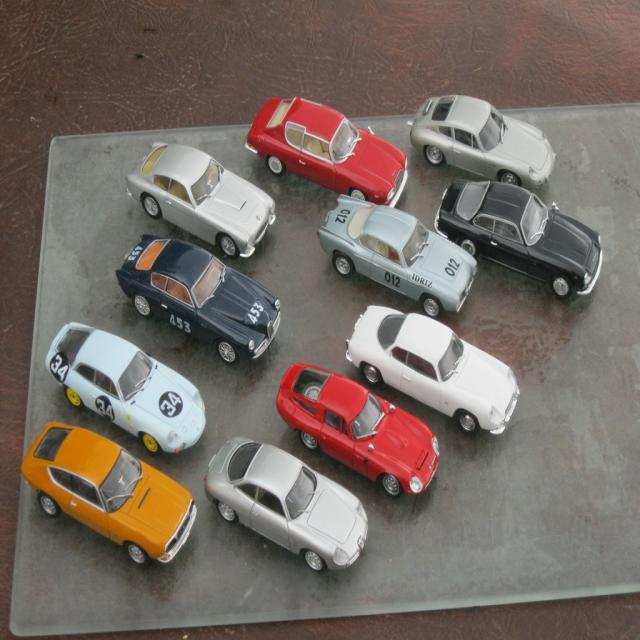car: (18, 418, 198, 572), (338, 296, 523, 436), (268, 353, 441, 502), (111, 229, 284, 369), (43, 314, 209, 455), (201, 429, 367, 570), (435, 174, 606, 303), (310, 184, 480, 312), (124, 140, 281, 259), (243, 93, 408, 204), (412, 91, 557, 187)
